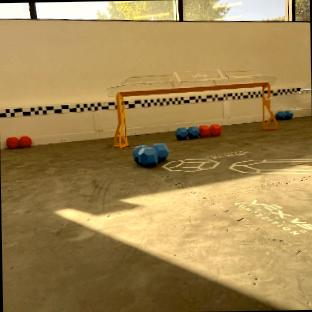V5_BLUE: (132, 142, 168, 164), (175, 126, 199, 139), (276, 111, 292, 118)
V5_RED: (6, 135, 31, 148), (198, 125, 220, 137)
